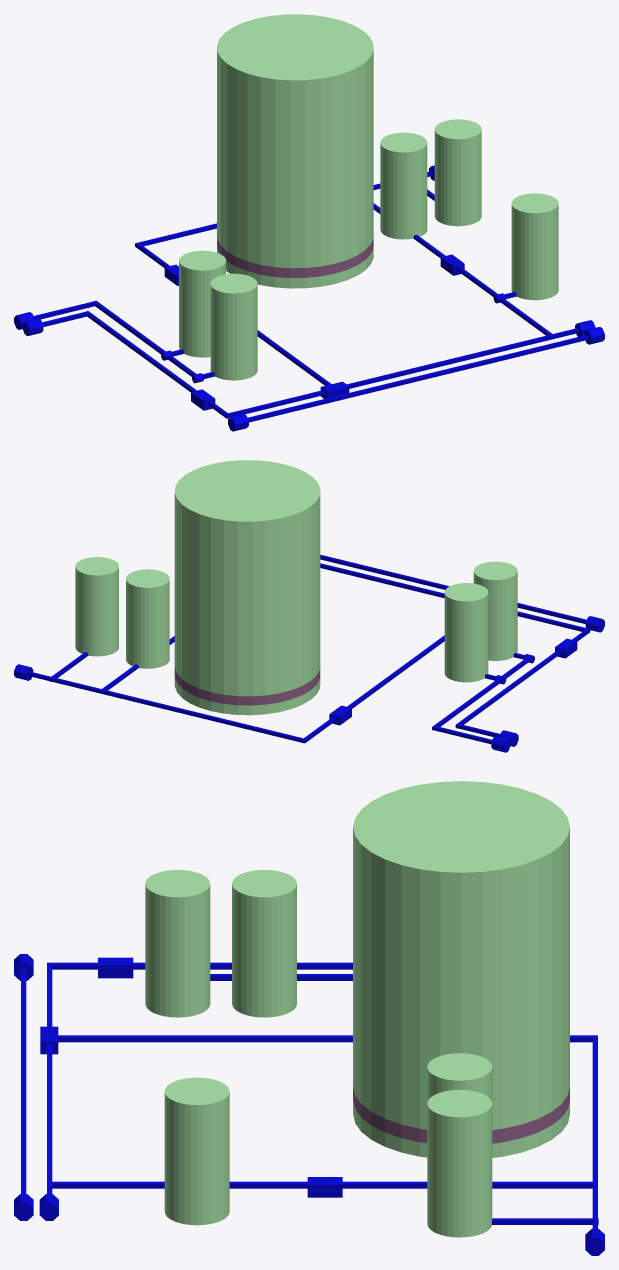
Rendered from tanks.glb.
The picture shows the model from 3 angles, top to bottom: view 1: azimuth 30°, elevation 25°; view 2: azimuth 150°, elevation 25°; view 3: azimuth 270°, elevation 25°; orthographic projection. The views are drawn at different scales.
Visible parts, largest first — view 1: tanks; view 2: tanks; view 3: tanks.
Boxes of the visible parts, left/top/right/bottom form: tanks: left=14, top=14, right=604, bottom=431; tanks: left=14, top=460, right=604, bottom=752; tanks: left=14, top=781, right=604, bottom=1255.
Bounding box in the file's own units: 41.42 × 17.66 × 32.11.
